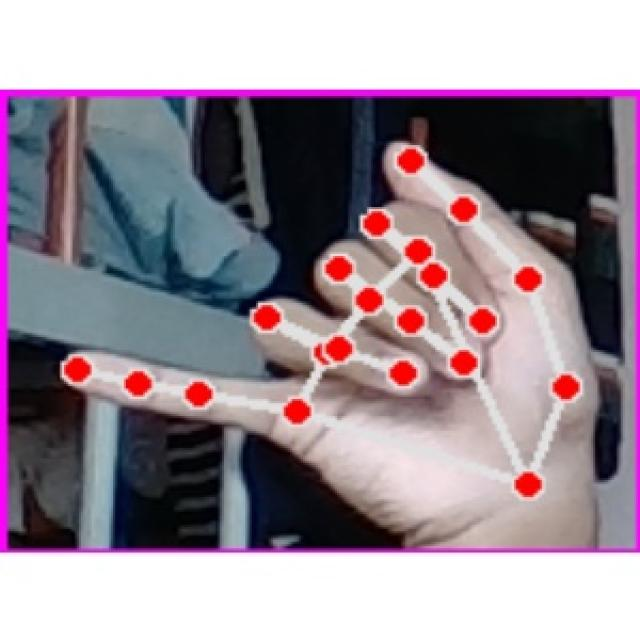J: (45, 121, 618, 534)
